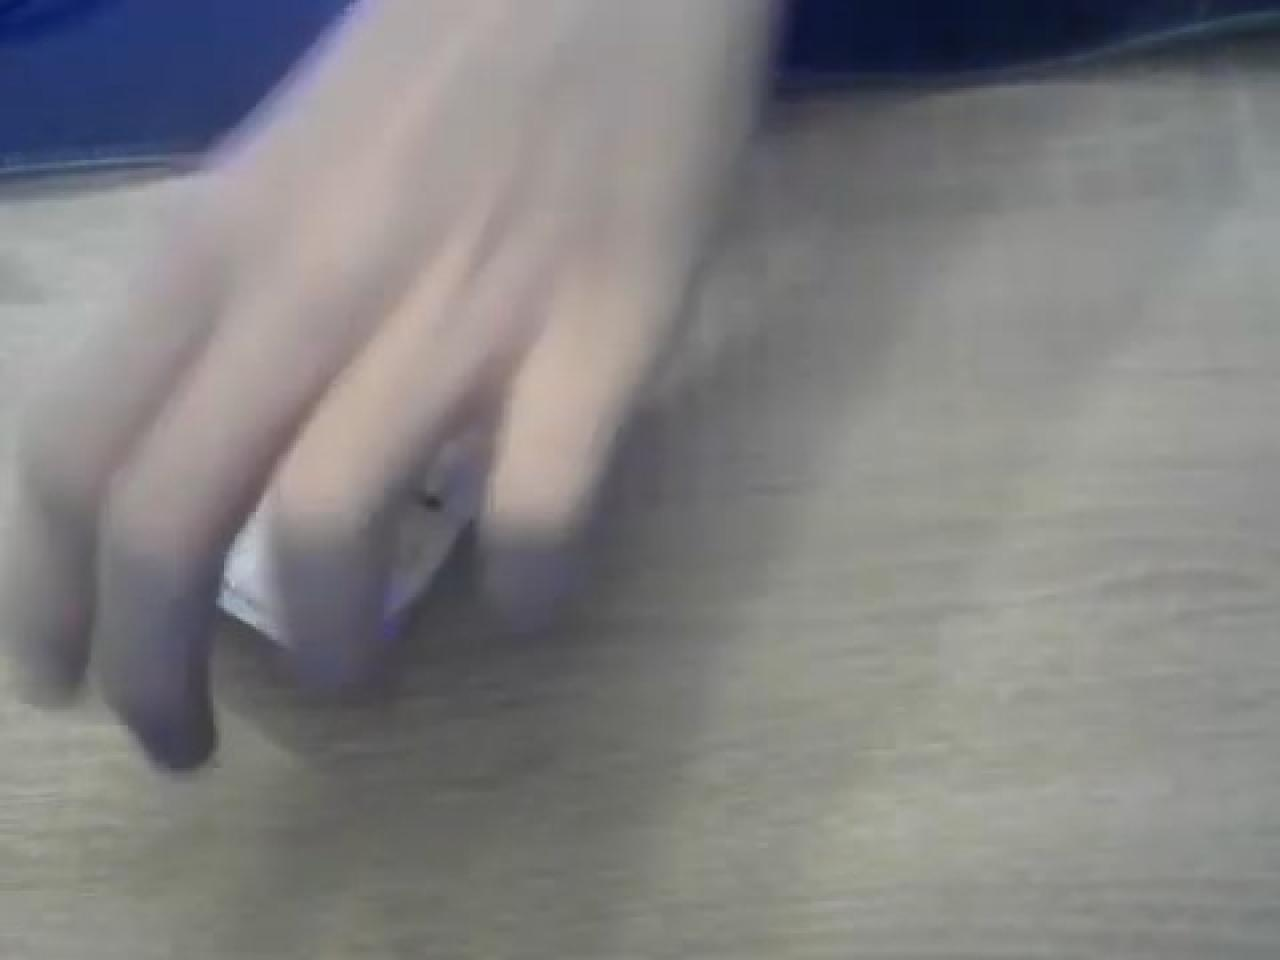10leva: (3, 0, 798, 773)
